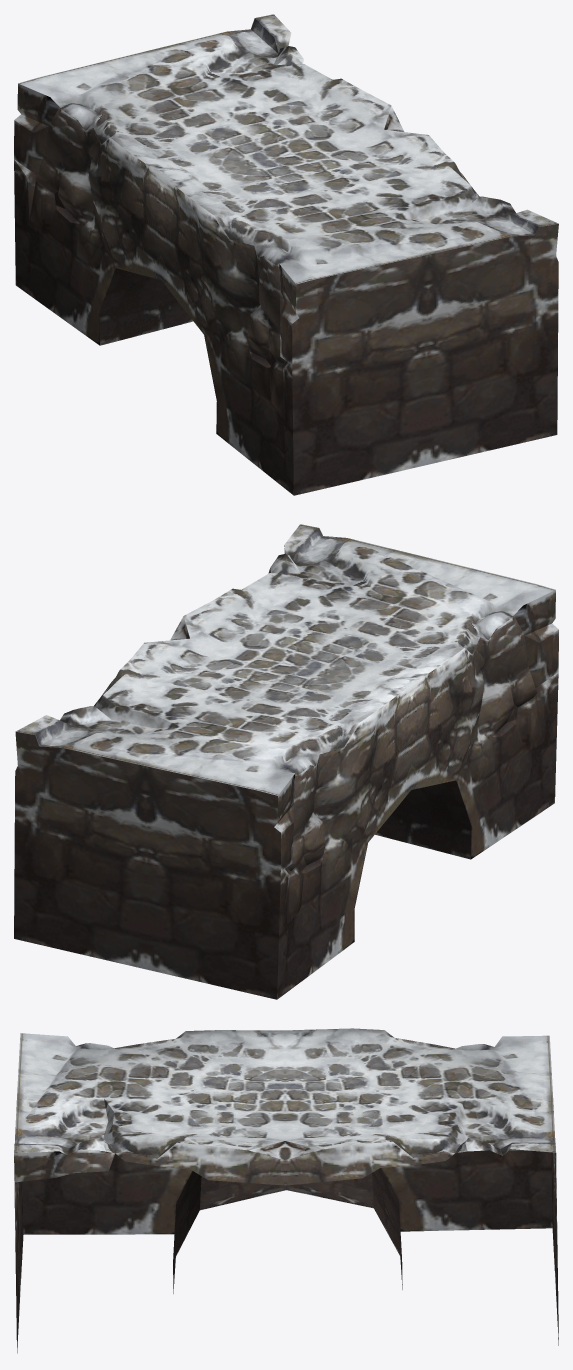
File: 5014_Item_qiao_1.FBX
3 views of the same model, one above another, from view 1: azimuth 30°, elevation 25°; view 2: azimuth 150°, elevation 25°; view 3: azimuth 270°, elevation 25° (orthographic). The views are drawn at different scales.
Parts seen in each view (by area): view 1: 5014_Item_qiao_1; view 2: 5014_Item_qiao_1; view 3: 5014_Item_qiao_1.
Part boxes in pixels (x1,y1,x2,y2): 5014_Item_qiao_1: (14,14,558,495); 5014_Item_qiao_1: (14,524,558,999); 5014_Item_qiao_1: (14,1028,558,1353).
Bounding box in the file's own units: 944 × 741 × 1757.
